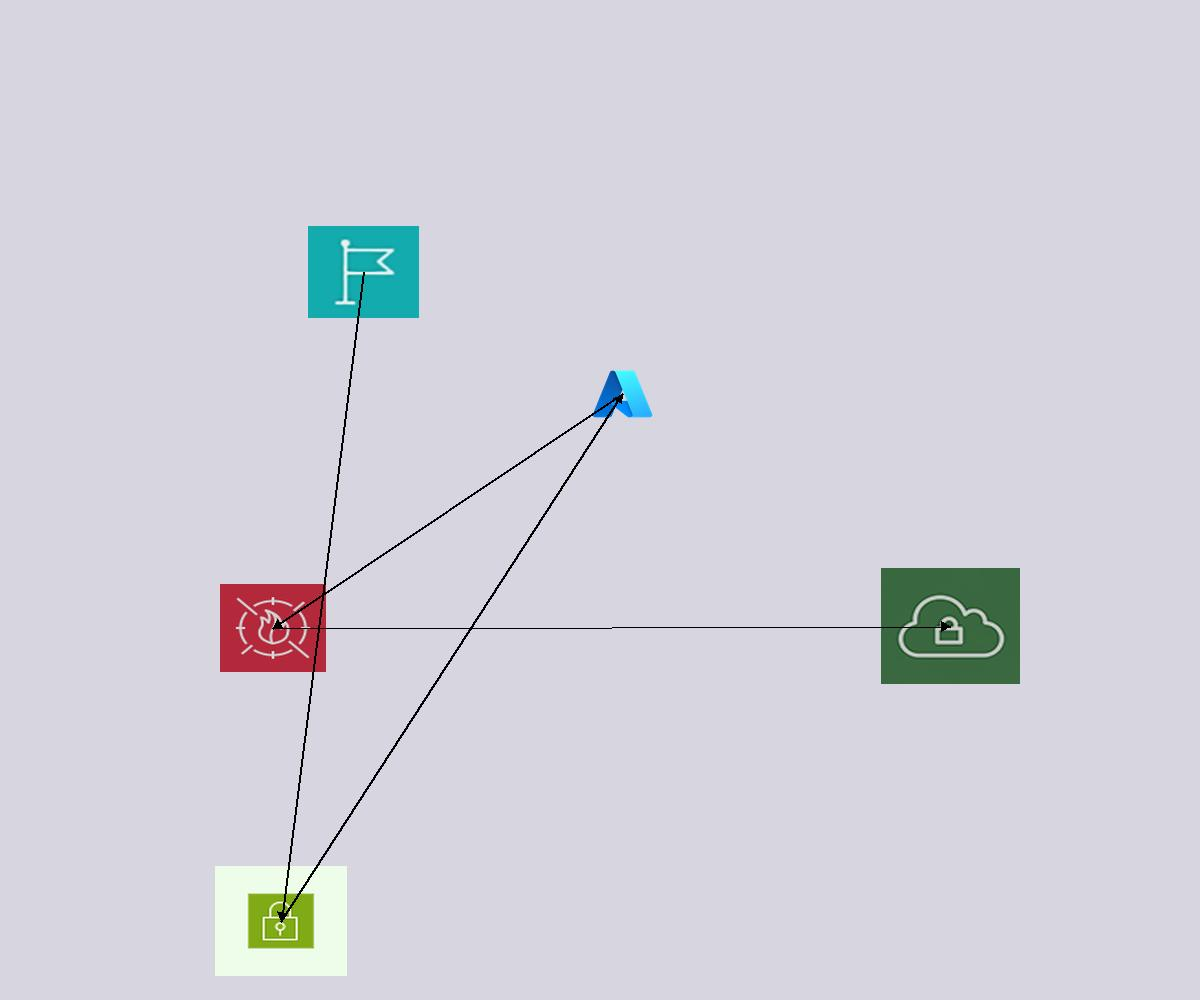AWS-Private_vpc: (881, 568, 1020, 684)
AWS-Public-subnet: (215, 866, 347, 976)
AWS-Region: (308, 226, 419, 318)
AWS-WAF: (220, 584, 326, 672)
Azure_services: (590, 367, 655, 421)
